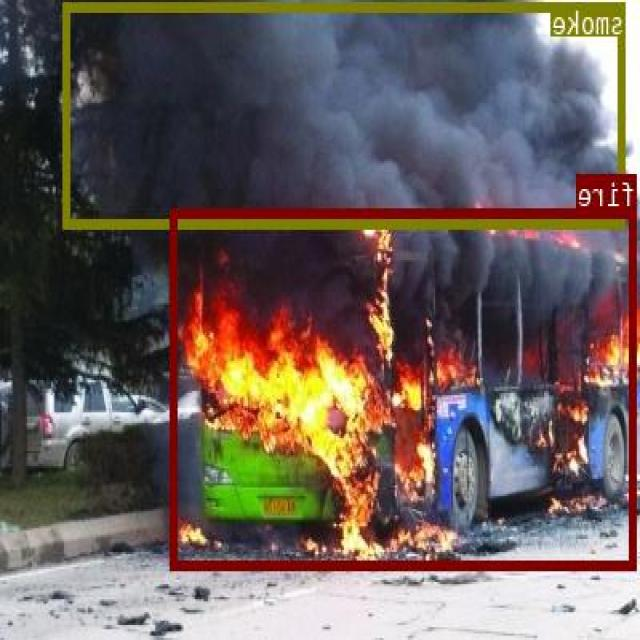fire: (172, 206, 638, 569)
smoke: (65, 1, 627, 226)
